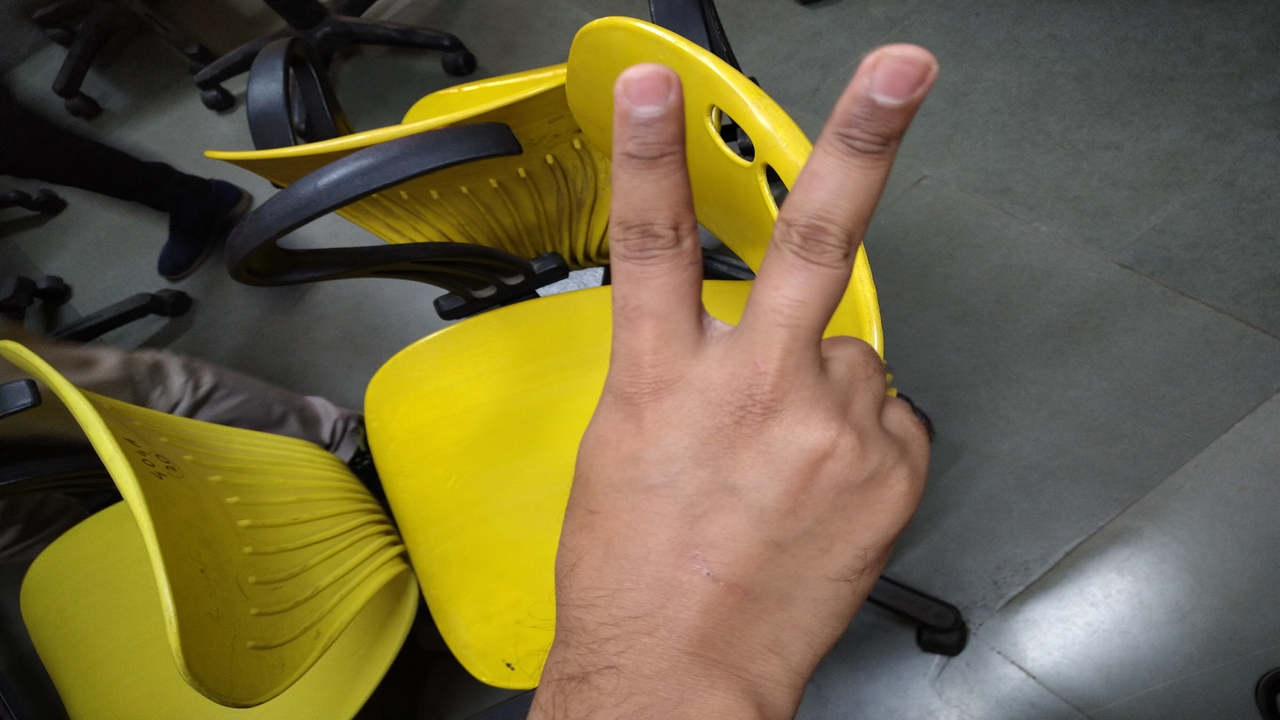fingertip: (856, 38, 950, 104), (614, 62, 684, 132)
